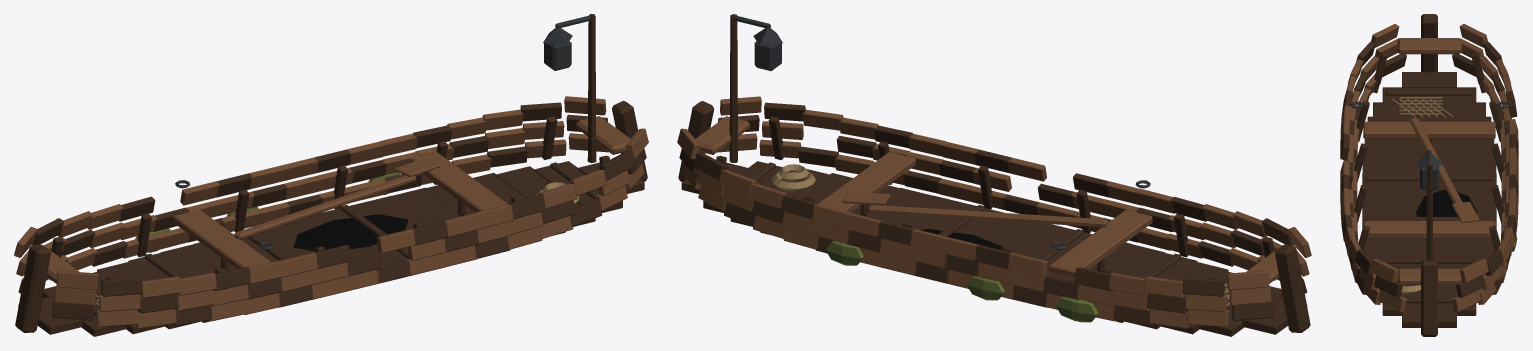
The model's file is boat3.glb.
3 renders of one model, left to right at view 1: azimuth 30°, elevation 25°; view 2: azimuth 150°, elevation 25°; view 3: azimuth 270°, elevation 25°, orthographic. The views are drawn at different scales.
Visible parts, largest first — view 1: Boat, BoatLamp; view 2: Boat, BoatLamp; view 3: Boat, BoatLamp.
Part boxes in pixels (left/top/right/bottom): Boat: left=14, top=96, right=648, bottom=336; BoatLamp: left=543, top=14, right=596, bottom=163; Boat: left=677, top=96, right=1311, bottom=336; BoatLamp: left=729, top=14, right=782, bottom=162; Boat: left=1340, top=14, right=1518, bottom=336; BoatLamp: left=1415, top=150, right=1443, bottom=259.
Size of the model in its own units: 2.92 by 0.791 by 0.8358.
